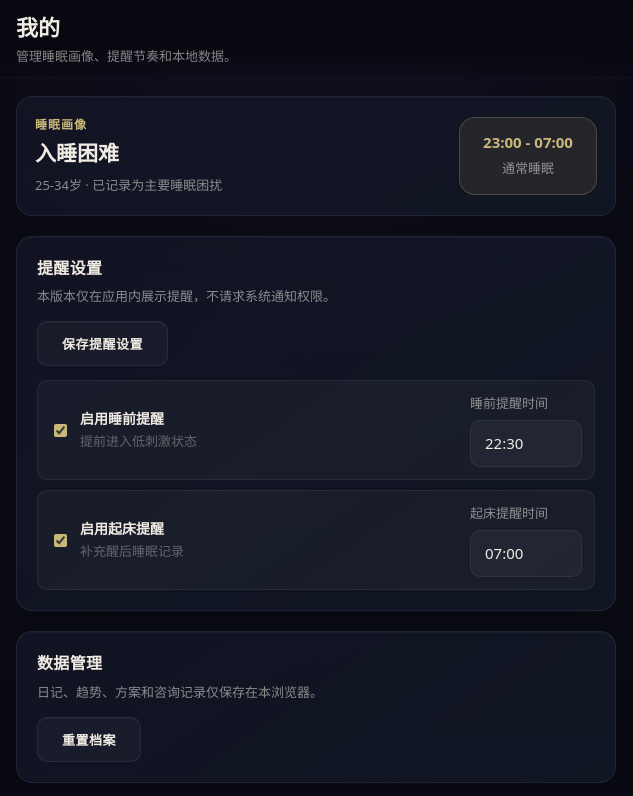
Test: MyPage › saves reminder settings from the my page
This screenshot has width=633, height=796.
Replace the text in the field labelled "睡前提醒时间" with "22:10": (526, 444) [470,420,582,467]
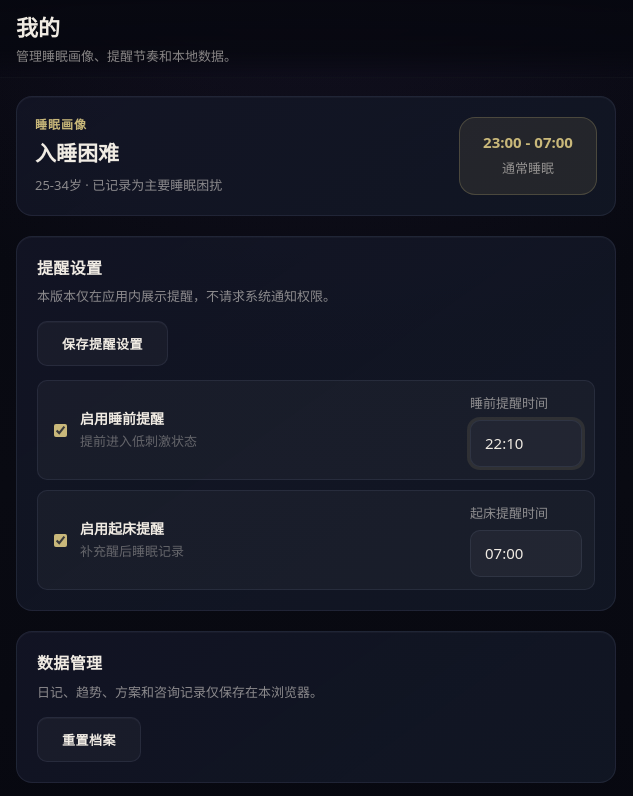
Replace the text in the field labelled "起床提醒时间" with "06:50": (526, 554) [470,530,582,577]
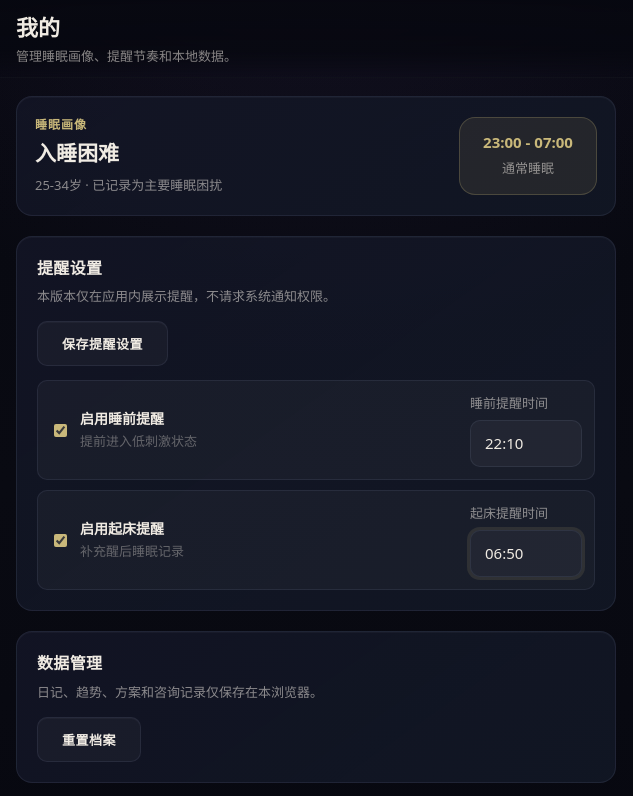
Click the checkbox labelled "启用睡前提醒": (60, 430) [54,424,67,437]
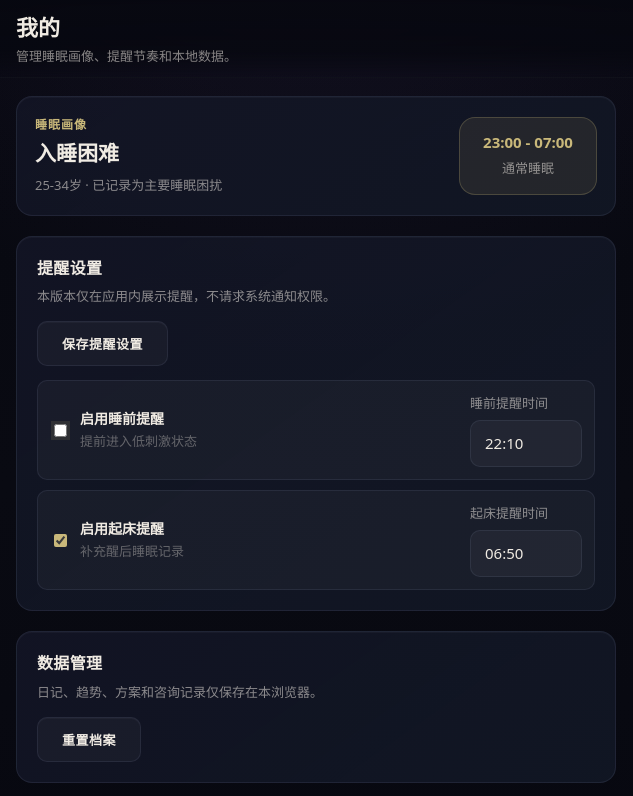
Click the button "保存提醒设置": (103, 344) [37,321,168,366]
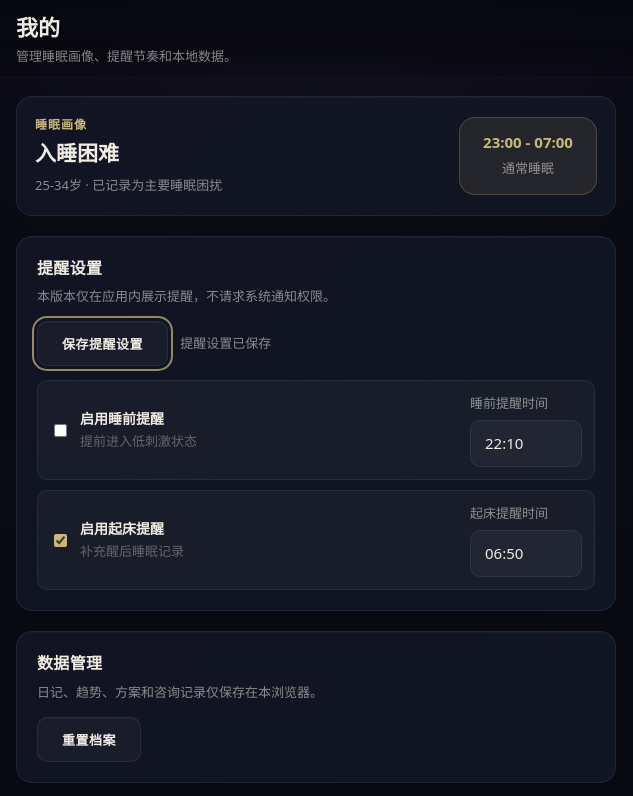
Check: the text "提醒设置已保存" is shown, box [180,333,271,355]
